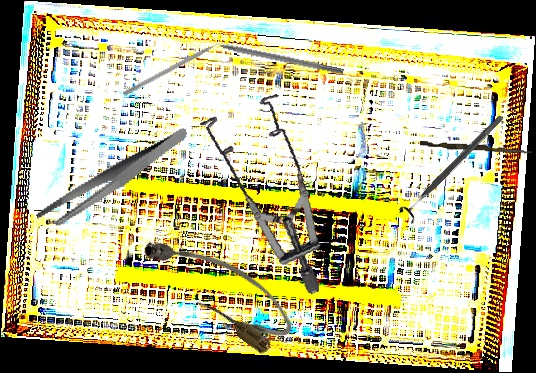Cannula: (134, 214, 303, 360)
Chopper: (122, 37, 231, 102)
Dressing Forceps: (24, 126, 202, 232)
Fixation Ring: (396, 109, 510, 225)
Hook Surgical: (201, 37, 345, 75)
Pusher: (419, 141, 533, 154)
Speculum: (174, 82, 351, 296)
